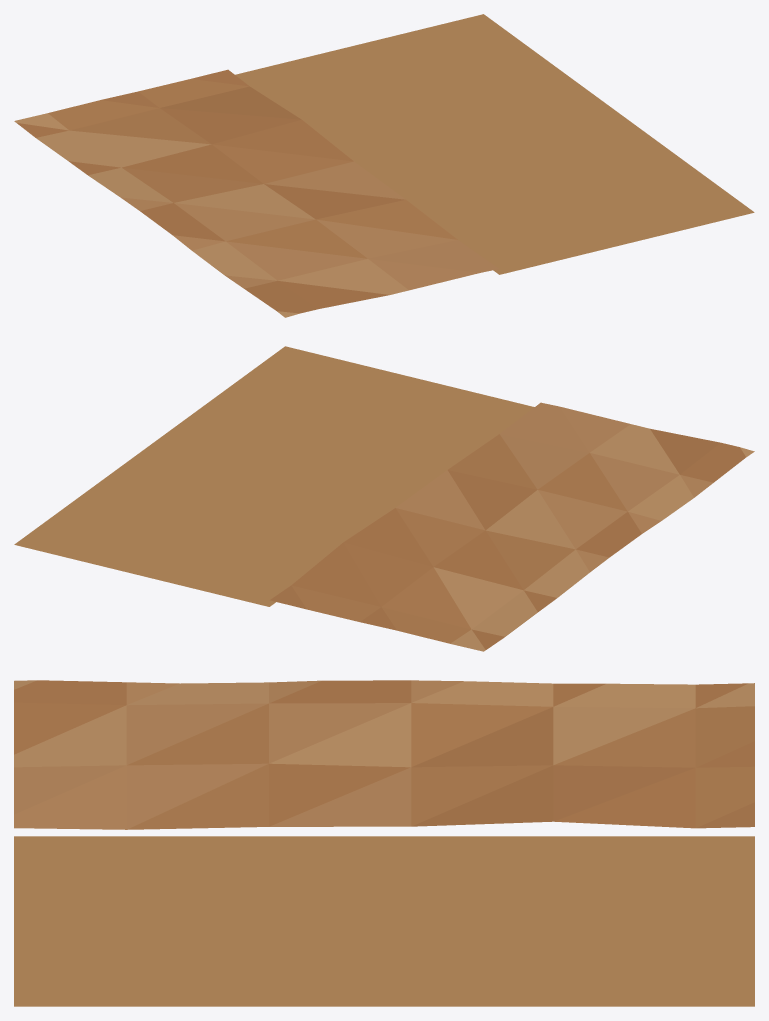
3 renders of one model, top to bottom at view 1: azimuth 30°, elevation 25°; view 2: azimuth 150°, elevation 25°; view 3: azimuth 270°, elevation 25°, orthographic. The views are drawn at different scales.
Parts seen in each view (by area): view 1: baked; view 2: baked; view 3: baked.
Part boxes in pixels (<box>): baked: <box>14,14,754,317</box>; baked: <box>14,346,754,651</box>; baked: <box>14,680,754,1006</box>.
Bounding box in the file's own units: 62.5 × 1.36 × 62.5.
